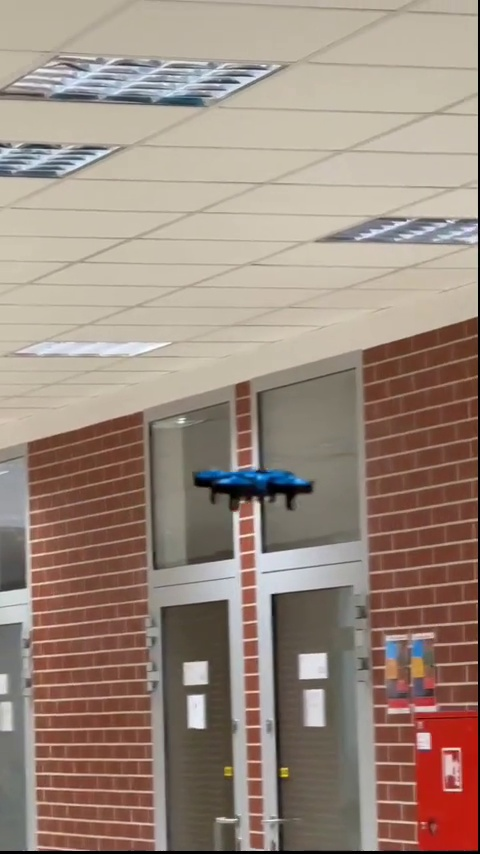drone: (198, 467, 313, 510)
